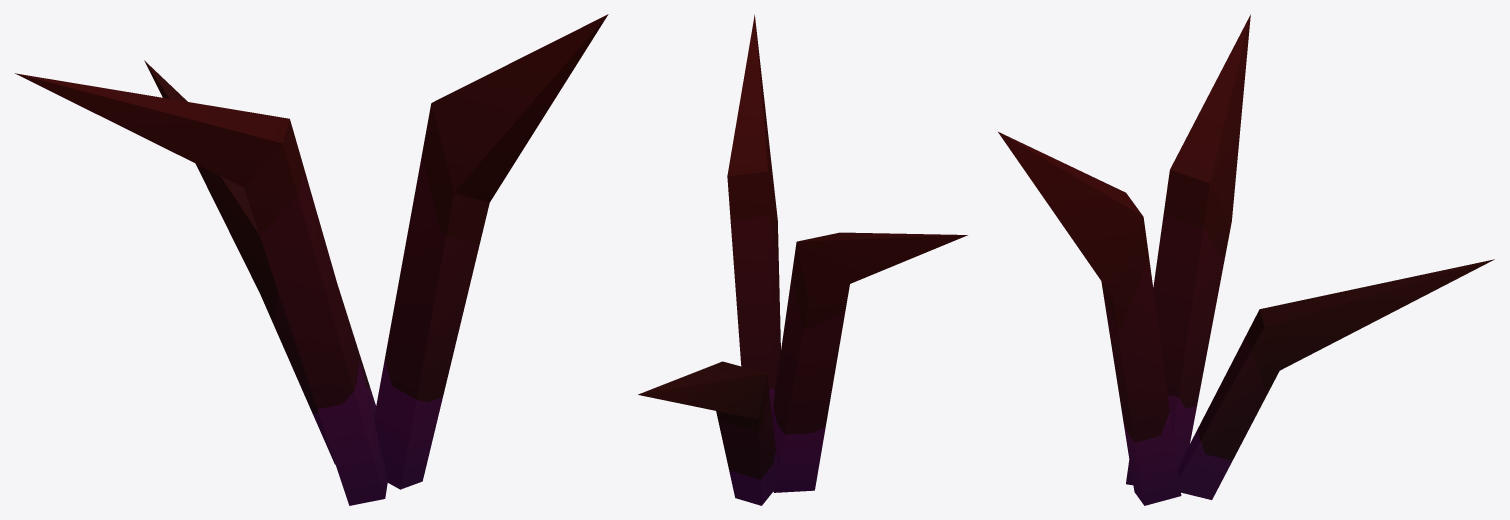
The model's file is entity111532.glb.
The picture shows the model from 3 angles, left to right: view 1: azimuth 30°, elevation 25°; view 2: azimuth 150°, elevation 25°; view 3: azimuth 270°, elevation 25°; orthographic projection. The views are drawn at different scales.
Visible parts, largest first — view 1: node_SM_Env_Grass_04; view 2: node_SM_Env_Grass_04; view 3: node_SM_Env_Grass_04.
Boxes of the visible parts, box(x1,y1,x2,y2) form: node_SM_Env_Grass_04: box(15, 14, 608, 505); node_SM_Env_Grass_04: box(638, 14, 967, 505); node_SM_Env_Grass_04: box(998, 14, 1494, 505).
Bounding box in the file's own units: 0.9992 × 1.13 × 1.22.
Materials: 1 (1 with a texture image).
